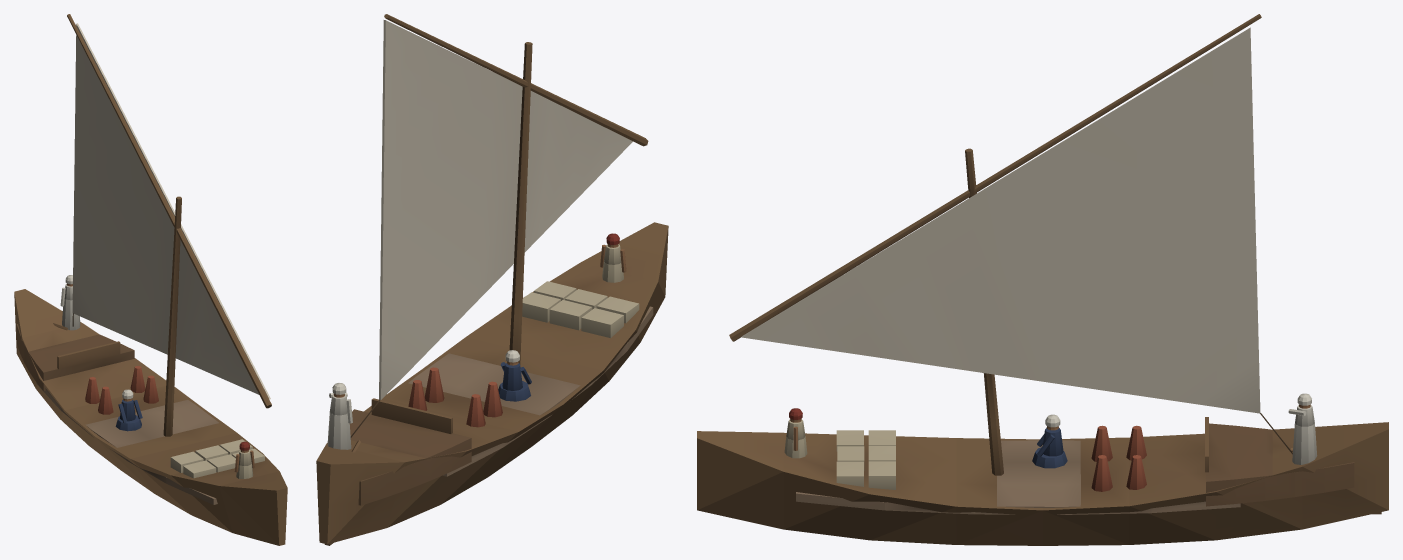
Rendered from boat.glb.
3 renders of one model, left to right at view 1: azimuth 30°, elevation 25°; view 2: azimuth 150°, elevation 25°; view 3: azimuth 270°, elevation 25°, orthographic. The views are drawn at different scales.
Visible parts, largest first — view 1: base; view 2: base; view 3: base.
Boxes of the visible parts, x1,y1,x2,y2 form: base: (14,14,287,545); base: (316,14,668,545); base: (697,14,1388,545).
Bounding box in the file's own units: 3.4 × 11.44 × 14.
